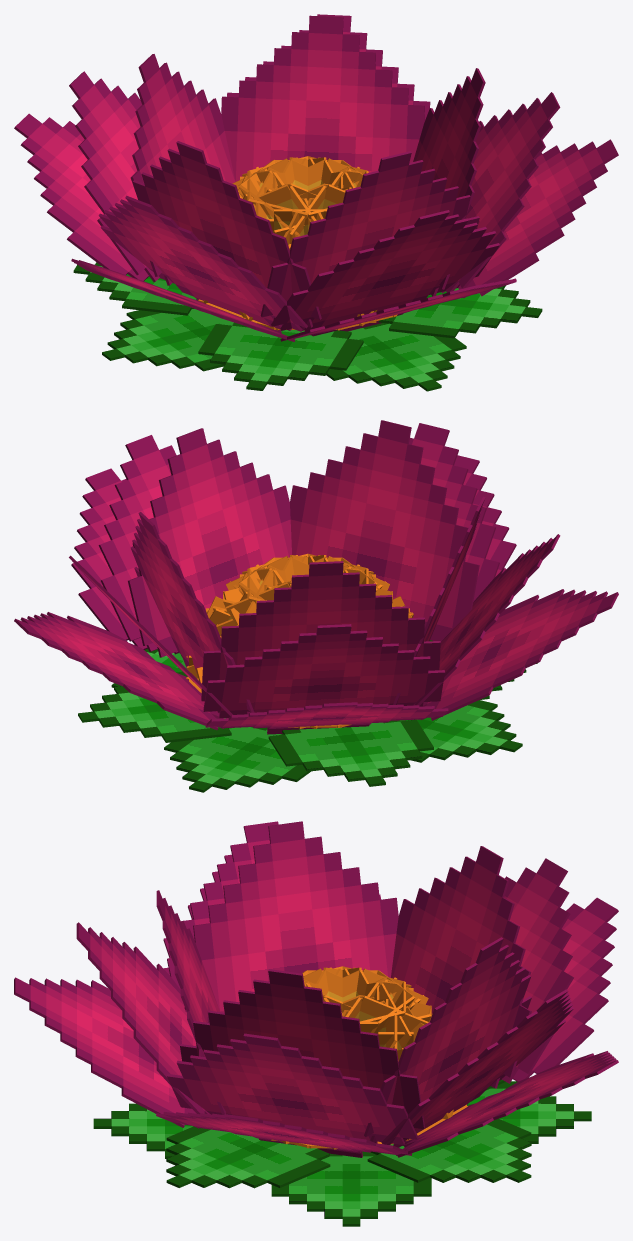
File: lotus-flower.glb
The picture shows the model from 3 angles, top to bottom: view 1: azimuth 30°, elevation 25°; view 2: azimuth 150°, elevation 25°; view 3: azimuth 270°, elevation 25°; orthographic projection. The views are drawn at different scales.
Parts seen in each view (by area): view 1: petal, leaf, anther; view 2: petal, leaf, anther; view 3: petal, leaf, anther.
Boxes of the visible parts, x1,y1,x2,y2 form: petal: (14, 14, 618, 341); leaf: (73, 262, 542, 391); anther: (194, 156, 397, 330); petal: (14, 420, 618, 734); leaf: (78, 640, 537, 792); anther: (186, 553, 413, 728); petal: (14, 821, 618, 1157); leaf: (93, 1079, 591, 1226); anther: (271, 966, 467, 1149).
Bounding box in the file's own units: 4.47 × 1.74 × 4.25.
3 materials, 3 textured.
